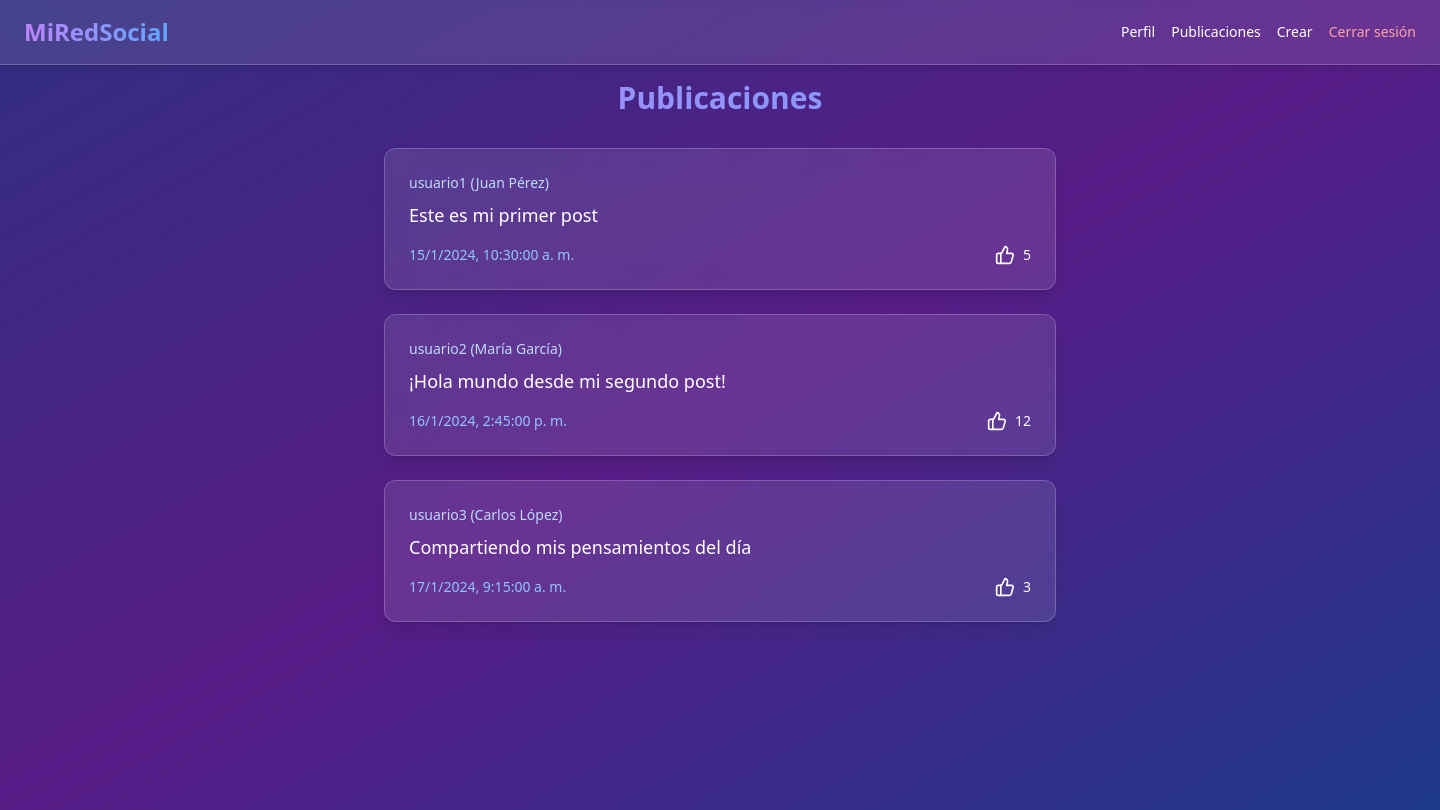
Test case: Posts Component › incrementa el contador de likes localmente después de dar like
Click the button "12". click: click(1009, 421)
box: [987,411,1031,431]
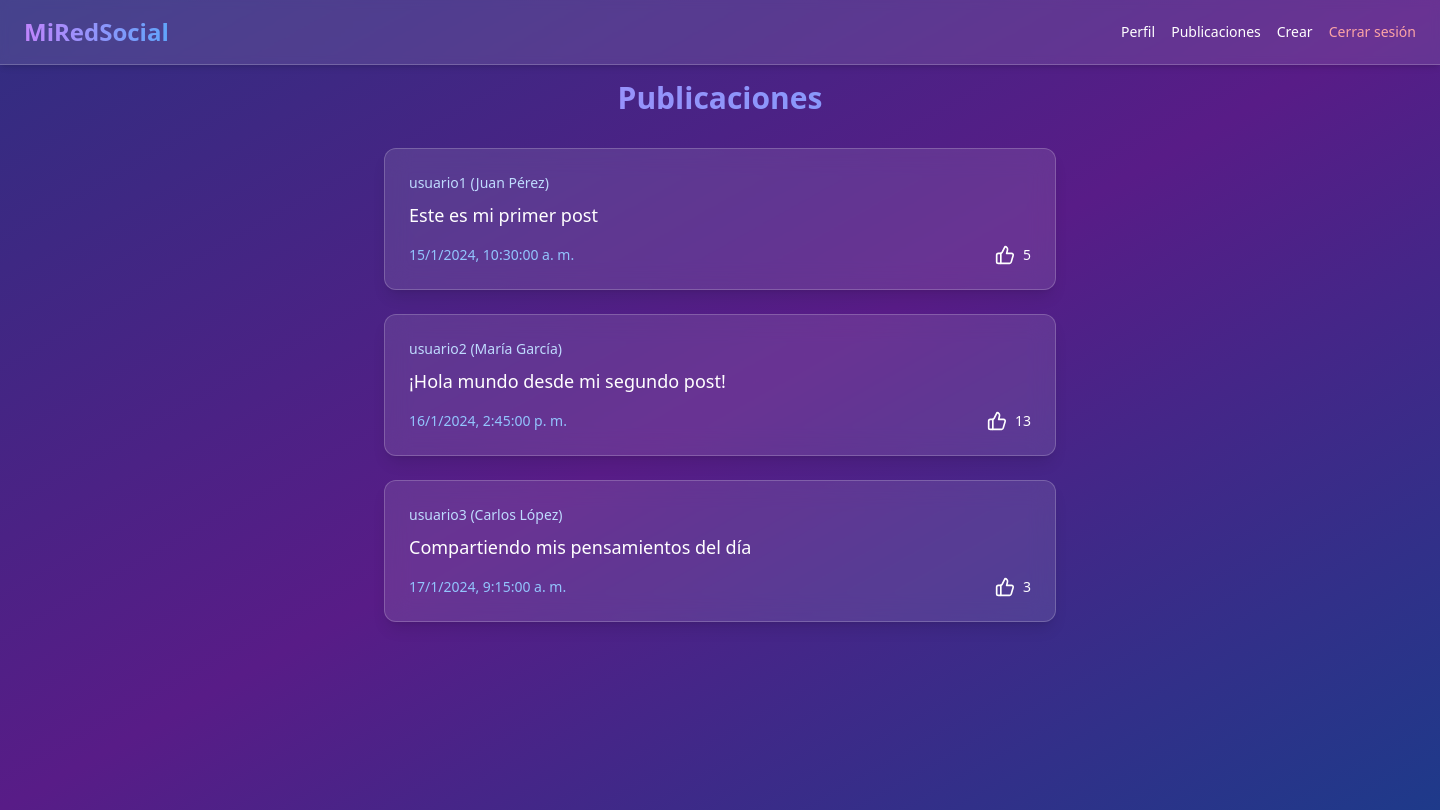
Now the button "13" is shown, box [987,411,1031,431]
Now the button "12" is gone
